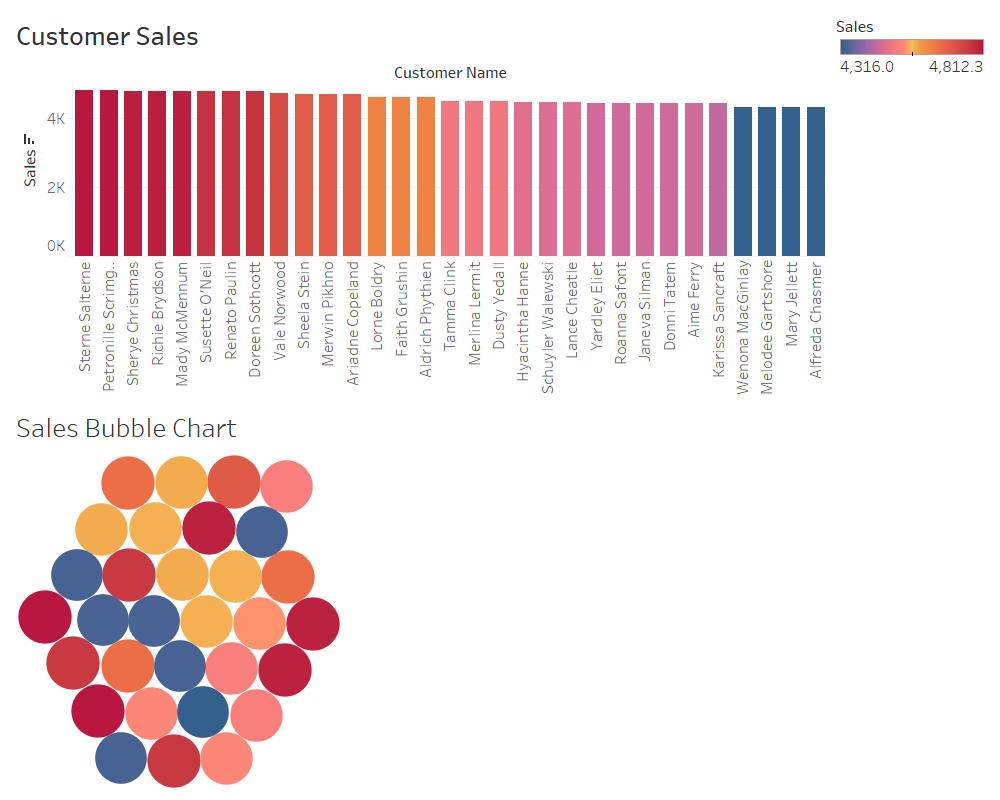

Layout of this report page (visuals, bound fields, positions):
{"tool":"tableau","page":{"name":"Dashboard 1","canvas":[1000,800],"ordinal":0},"visuals":[{"type":"worksheet","title":"Customer Sales","mark":"Automatic","rows":["Sales"],"cols":["Customer Name"],"box":[8,8,824,392]},{"type":"legend","title":"Customer Sales","param":"[federated.1qpo9e90ts75ej12r9jxs0y6e4ny].[sum:Sales:qk]","box":[832,8,160,73]},{"type":"worksheet","title":"Sales Bubble Chart","mark":"Circle","box":[8,400,824,392]}]}

Visuals, with their boxes in screenshot pixels (x1, y1, x2, y2), scaled from the page's 1000x800 canvas onto the 1000x800 screenshot:
"Customer Sales" worksheet: locate(8, 8, 832, 400)
"Customer Sales" legend: locate(832, 8, 992, 81)
"Sales Bubble Chart" worksheet (Circle marks): locate(8, 400, 832, 792)
